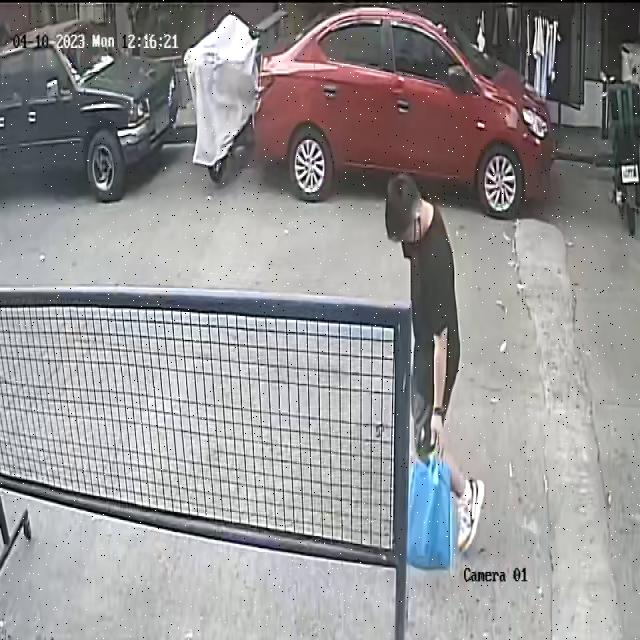human: (386, 170, 485, 570)
trash: (400, 438, 456, 574)
